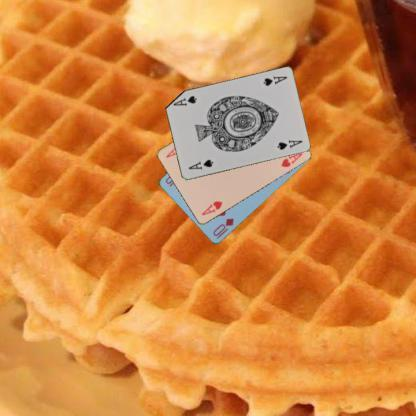10d: (210, 215, 235, 240)
Ah: (199, 198, 224, 216)
As: (186, 157, 214, 171), (261, 74, 288, 88)
